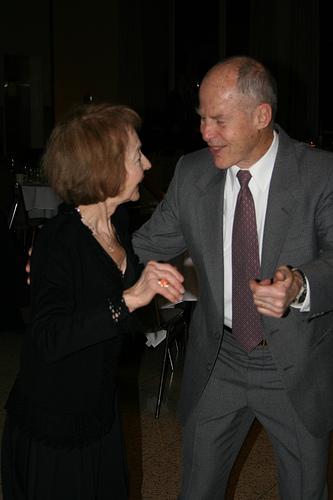without_mask: (194, 69, 276, 173), (87, 119, 153, 213)
